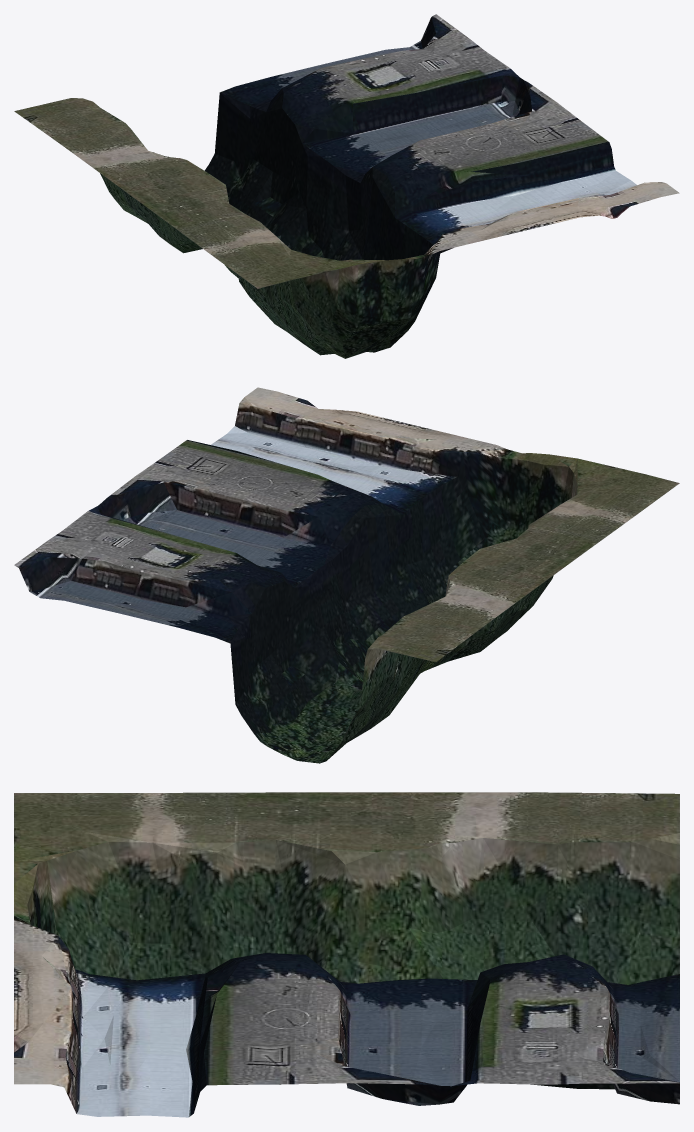
Rendered from map_15_8179_13790.dae.
The picture shows the model from 3 angles, top to bottom: view 1: azimuth 30°, elevation 25°; view 2: azimuth 150°, elevation 25°; view 3: azimuth 270°, elevation 25°; orthographic projection. The views are drawn at different scales.
Visible parts, largest first — view 1: Ter0; view 2: Ter0; view 3: Ter0.
Boxes of the visible parts, x1,y1,x2,y2 form: Ter0: (14, 14, 679, 358); Ter0: (14, 387, 679, 763); Ter0: (14, 792, 679, 1117).
Size of the model in its own units: 63.87 by 63.88 by 20.11.
3 materials, 3 textured.
